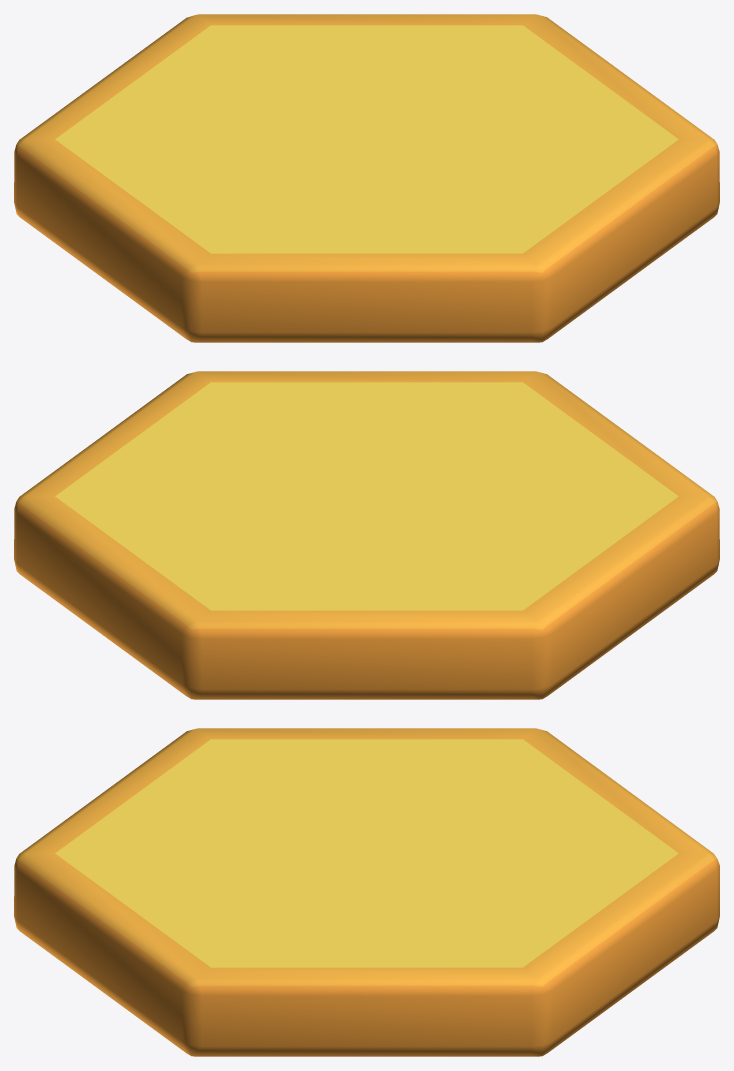
Rendered from Platform yellow 1.fbx.
The picture shows the model from 3 angles, top to bottom: view 1: azimuth 30°, elevation 25°; view 2: azimuth 150°, elevation 25°; view 3: azimuth 270°, elevation 25°; orthographic projection.
Visible parts, largest first — view 1: Platform yellow 1; view 2: Platform yellow 1; view 3: Platform yellow 1.
Part boxes in pixels (x1,y1,x2,y2): Platform yellow 1: [14, 14, 719, 342]; Platform yellow 1: [14, 371, 719, 699]; Platform yellow 1: [14, 728, 719, 1056].
Size of the model in its own units: 625 by 83.5 by 715.
